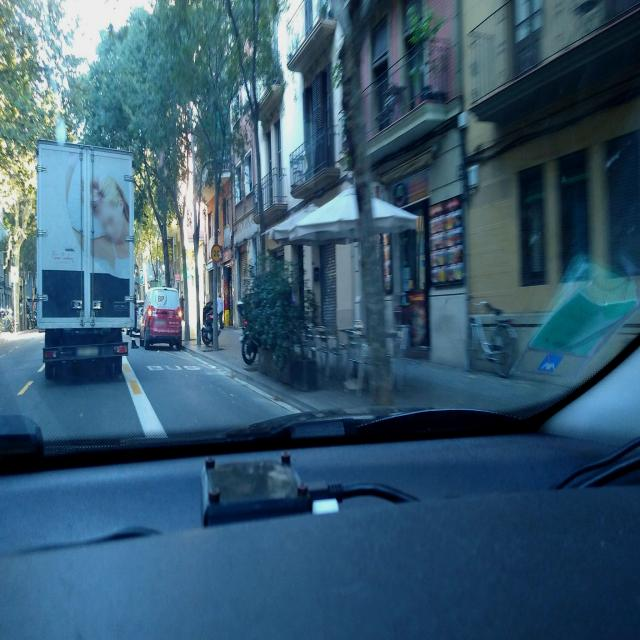bike: (237, 314, 263, 364), (200, 306, 222, 349)
car: (140, 286, 183, 352)
